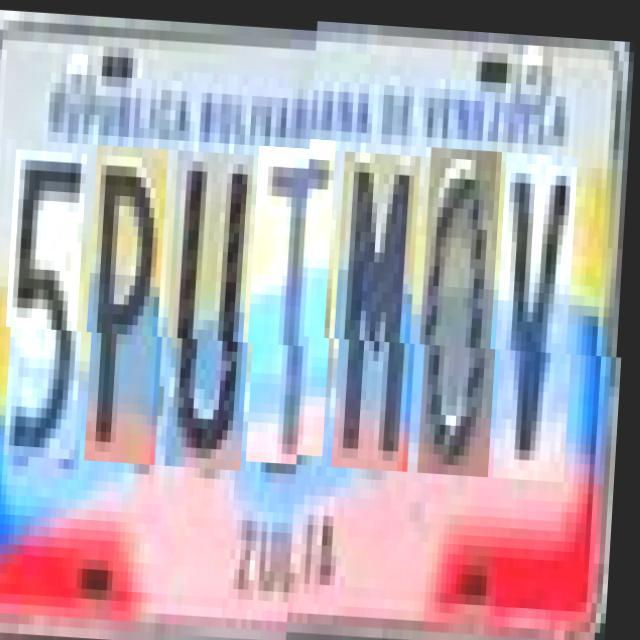5: (9, 150, 94, 458)
M: (336, 157, 426, 476)
O: (422, 151, 508, 480)
P: (90, 144, 174, 462)
T: (252, 142, 342, 461)
U: (170, 148, 260, 467)
V: (498, 155, 584, 484)
